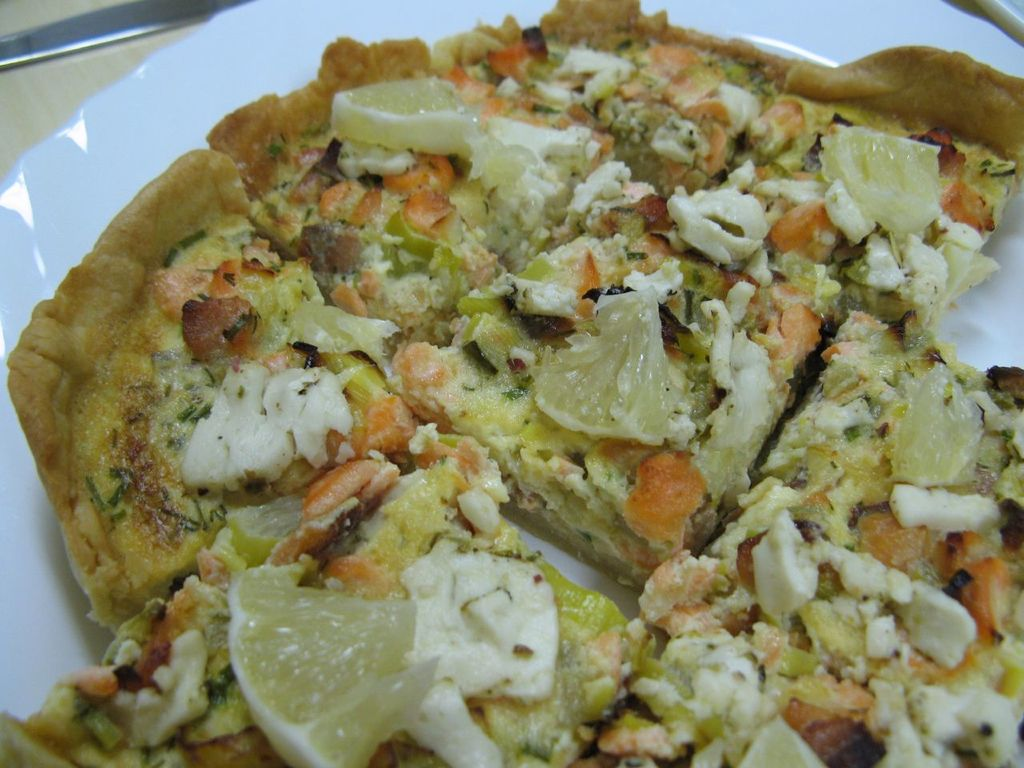Pizza: (1, 0, 1023, 767)
